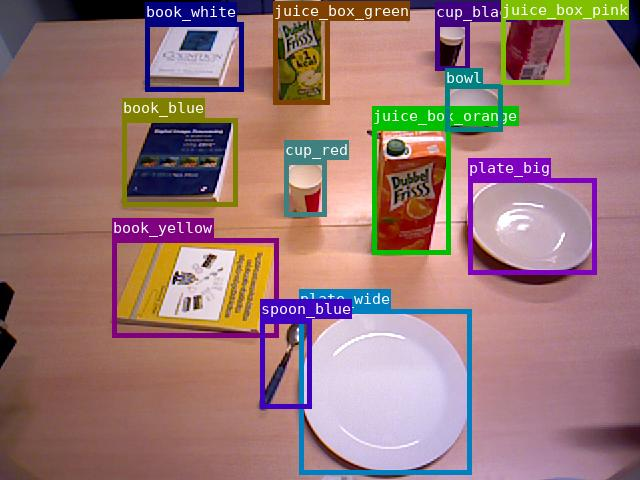book_blue: (122, 118, 237, 206)
book_white: (145, 22, 243, 91)
book_yellow: (112, 238, 278, 337)
bowl: (445, 84, 502, 131)
cup_black: (435, 22, 469, 70)
cup_red: (284, 160, 326, 216)
juice_box_green: (273, 1, 329, 104)
juice_box_orange: (372, 126, 450, 254)
juice_box_pink: (501, 0, 569, 84)
plate_big: (468, 178, 596, 274)
plate_wide: (299, 309, 471, 474)
spoon_blue: (260, 319, 311, 408)
